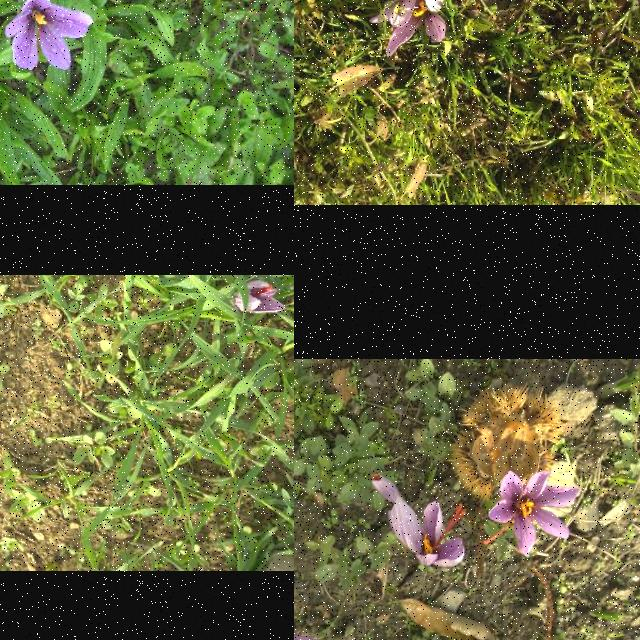flower: (484, 472, 582, 558), (4, 0, 93, 70), (389, 498, 471, 568), (232, 282, 286, 312), (371, 472, 403, 502)
overlap: (356, 0, 457, 58)
